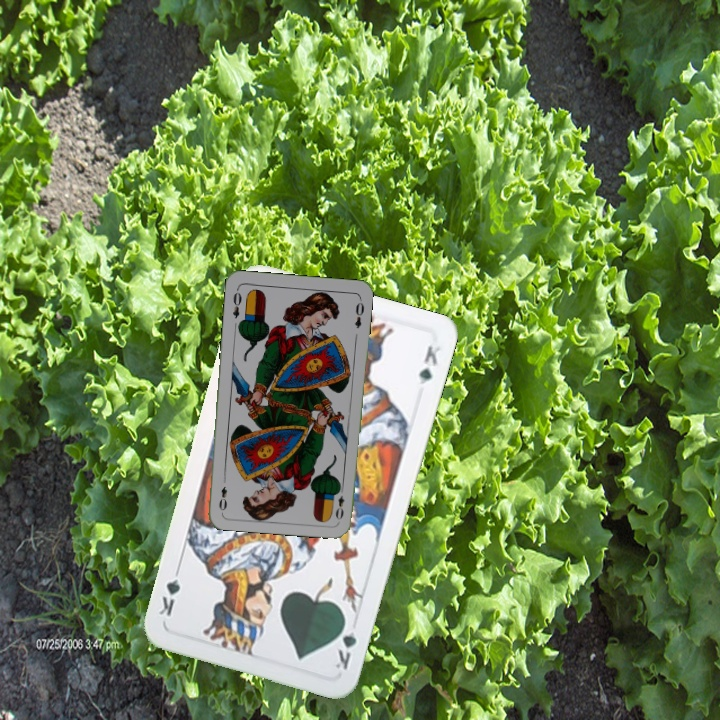EO: (331, 482, 347, 522), (229, 285, 244, 321)
GK: (331, 614, 359, 673)
